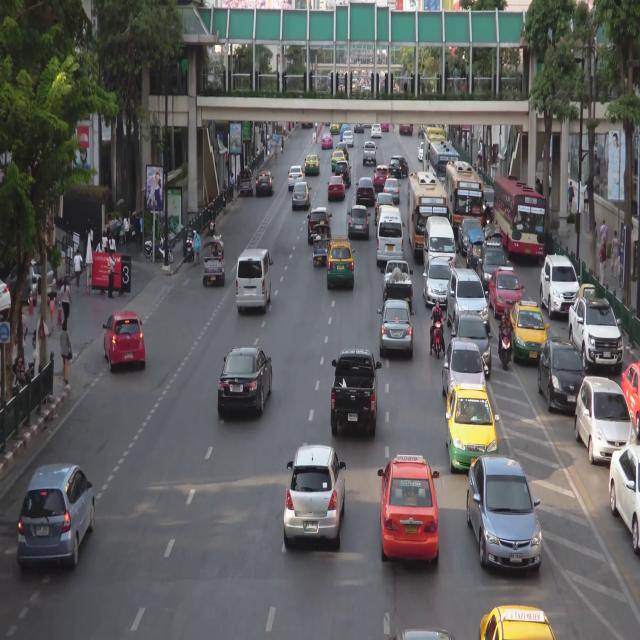bus: (494, 176, 545, 261), (407, 174, 447, 262), (445, 163, 484, 241), (430, 143, 460, 204), (423, 128, 448, 186)
car: (468, 455, 543, 574), (19, 464, 95, 566), (285, 448, 346, 549), (576, 374, 635, 467), (571, 294, 623, 371), (333, 350, 377, 438), (540, 336, 586, 410), (219, 349, 273, 412), (610, 441, 640, 554), (442, 340, 487, 405), (104, 309, 145, 375), (449, 268, 489, 333), (452, 312, 491, 378), (542, 253, 580, 320), (9, 256, 58, 303), (237, 247, 271, 313), (382, 299, 412, 352), (377, 208, 404, 262), (479, 244, 508, 293), (423, 261, 451, 305), (385, 262, 412, 305), (387, 624, 457, 640), (203, 237, 225, 286), (460, 219, 485, 252), (312, 223, 330, 267), (484, 222, 503, 258), (309, 208, 331, 238), (468, 234, 485, 272), (350, 206, 369, 238), (357, 176, 376, 204), (375, 192, 393, 220), (0, 275, 11, 319), (256, 171, 275, 196), (293, 183, 311, 207), (335, 161, 351, 187), (389, 155, 408, 176), (384, 179, 399, 203), (329, 177, 345, 199), (363, 141, 377, 166), (375, 166, 391, 187), (240, 170, 253, 195), (288, 167, 303, 188), (337, 143, 349, 159), (321, 133, 333, 148), (343, 131, 354, 146), (372, 123, 382, 139), (418, 142, 424, 159)
pedestrian: (61, 320, 71, 387), (62, 280, 70, 327), (611, 228, 618, 280), (108, 251, 115, 300), (599, 239, 606, 287), (192, 228, 201, 265), (600, 218, 608, 256), (74, 248, 81, 290), (124, 210, 131, 248), (49, 291, 56, 327), (37, 276, 43, 317), (568, 179, 574, 214), (136, 210, 141, 247), (223, 177, 228, 214), (109, 234, 116, 256), (547, 173, 553, 197), (584, 180, 588, 215), (230, 171, 234, 204), (103, 230, 108, 254), (97, 239, 104, 255), (595, 219, 598, 253), (274, 141, 278, 166), (281, 134, 285, 156), (259, 138, 264, 152), (268, 138, 271, 158), (270, 136, 273, 152), (257, 147, 260, 156)
taxi: (382, 453, 440, 567), (447, 385, 498, 472), (479, 603, 555, 640), (511, 298, 548, 365), (491, 266, 524, 320), (620, 356, 640, 442), (328, 234, 354, 287), (305, 153, 320, 176), (332, 150, 346, 171), (331, 122, 341, 133)
